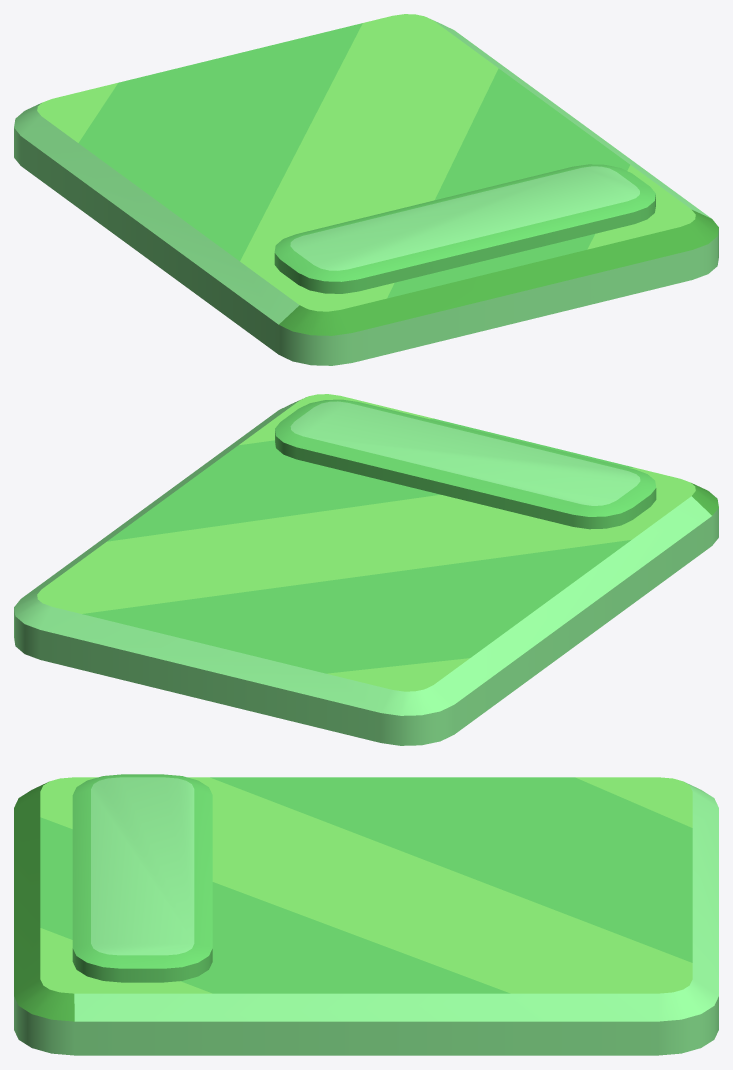
Rendered from Merge-1LvL.fbx.
3 renders of one model, top to bottom at view 1: azimuth 30°, elevation 25°; view 2: azimuth 150°, elevation 25°; view 3: azimuth 270°, elevation 25°, orthographic. The views are drawn at different scales.
Parts seen in each view (by area): view 1: Plane.001; view 2: Plane.001; view 3: Plane.001.
Boxes of the visible parts, x1,y1,x2,y2 form: Plane.001: (14, 14, 718, 365); Plane.001: (14, 394, 718, 745); Plane.001: (14, 774, 718, 1055).
Bounding box in the file's own units: 763 × 103 × 950.
